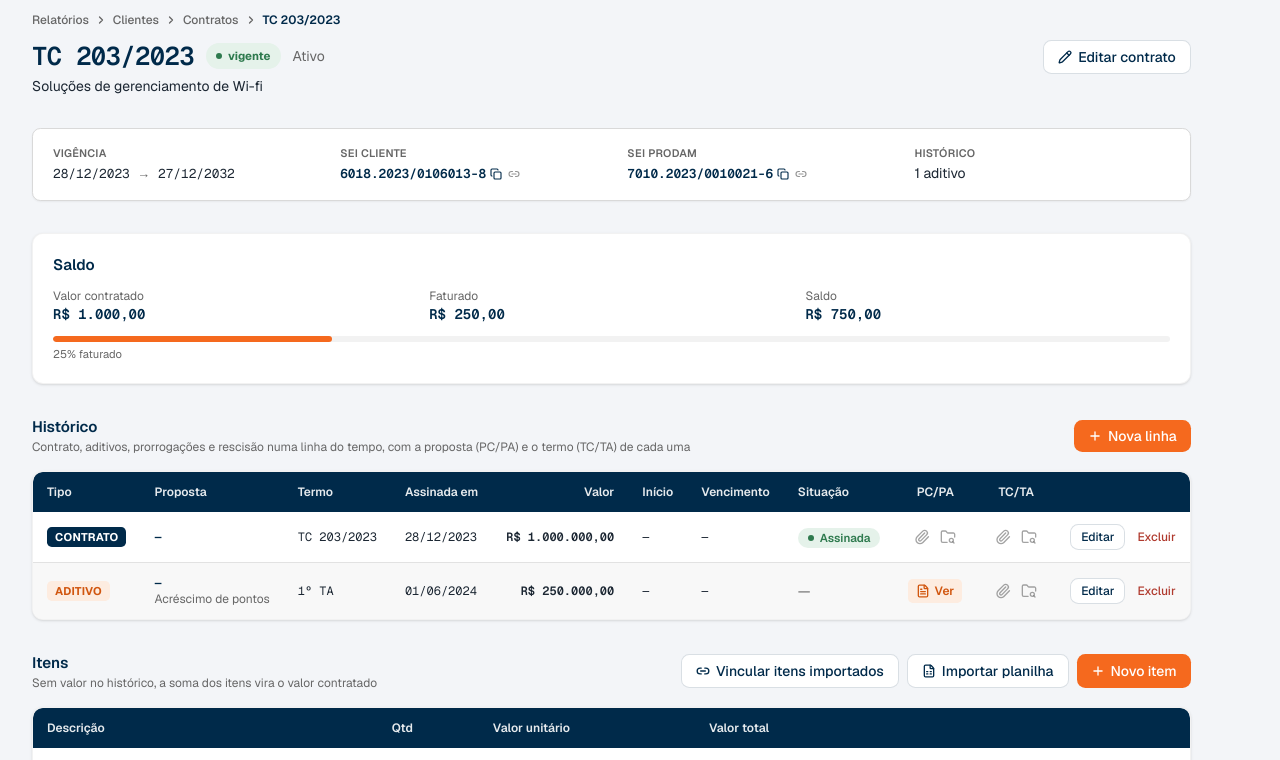
Scenario: ContratoDetalhePage › cadastra um item
Step 1. Click the button "Novo item" → click(1134, 671), box [1076, 654, 1191, 688]
(page scrolled)
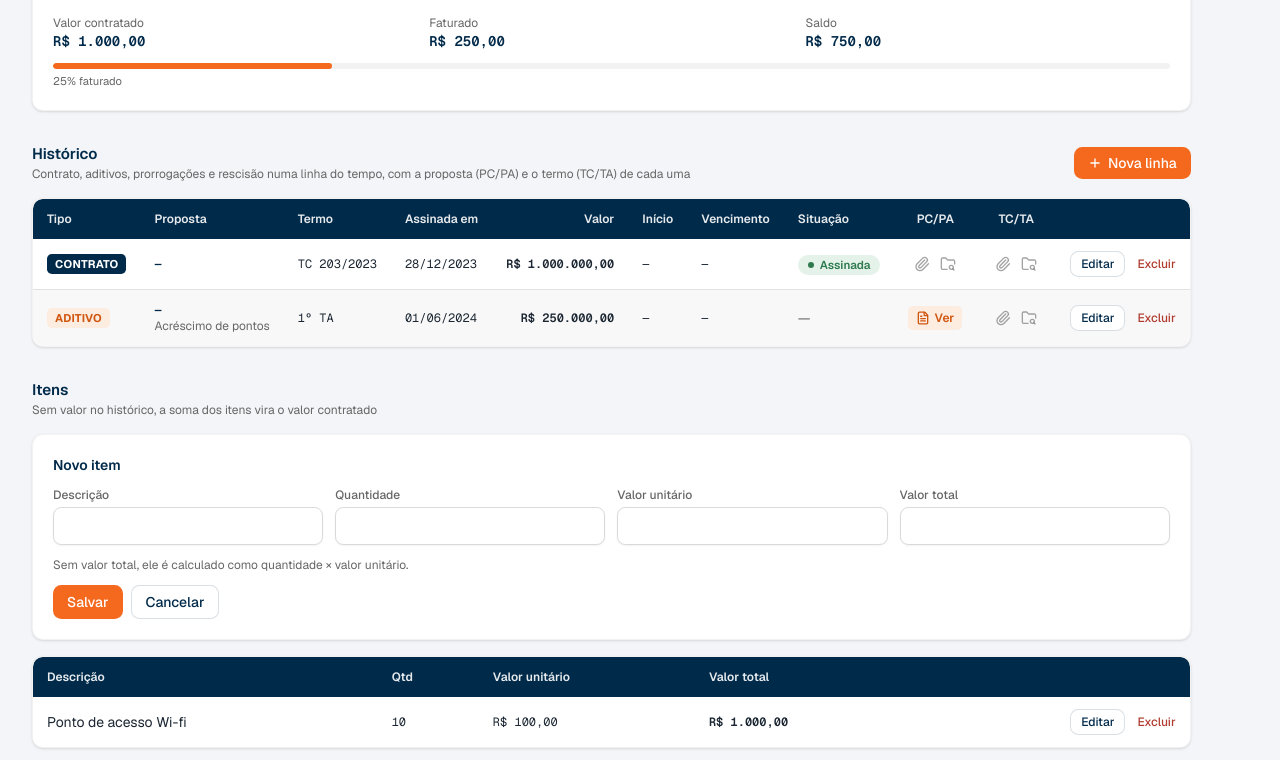
Step 2. Type "Switch" into the field labelled "Descrição" → (188, 526), box [53, 507, 323, 545]
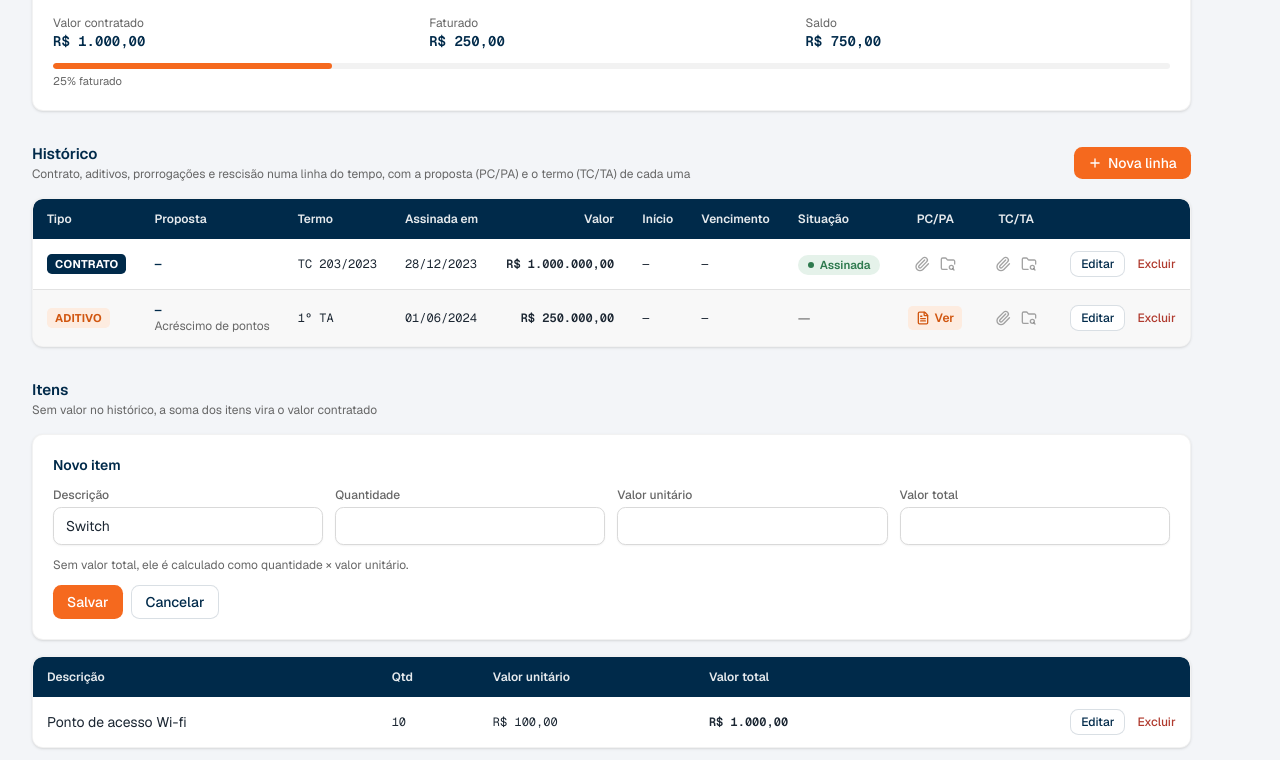
Step 3. Type "300" into the field labelled "Valor total" → (1035, 526), box [900, 507, 1170, 545]
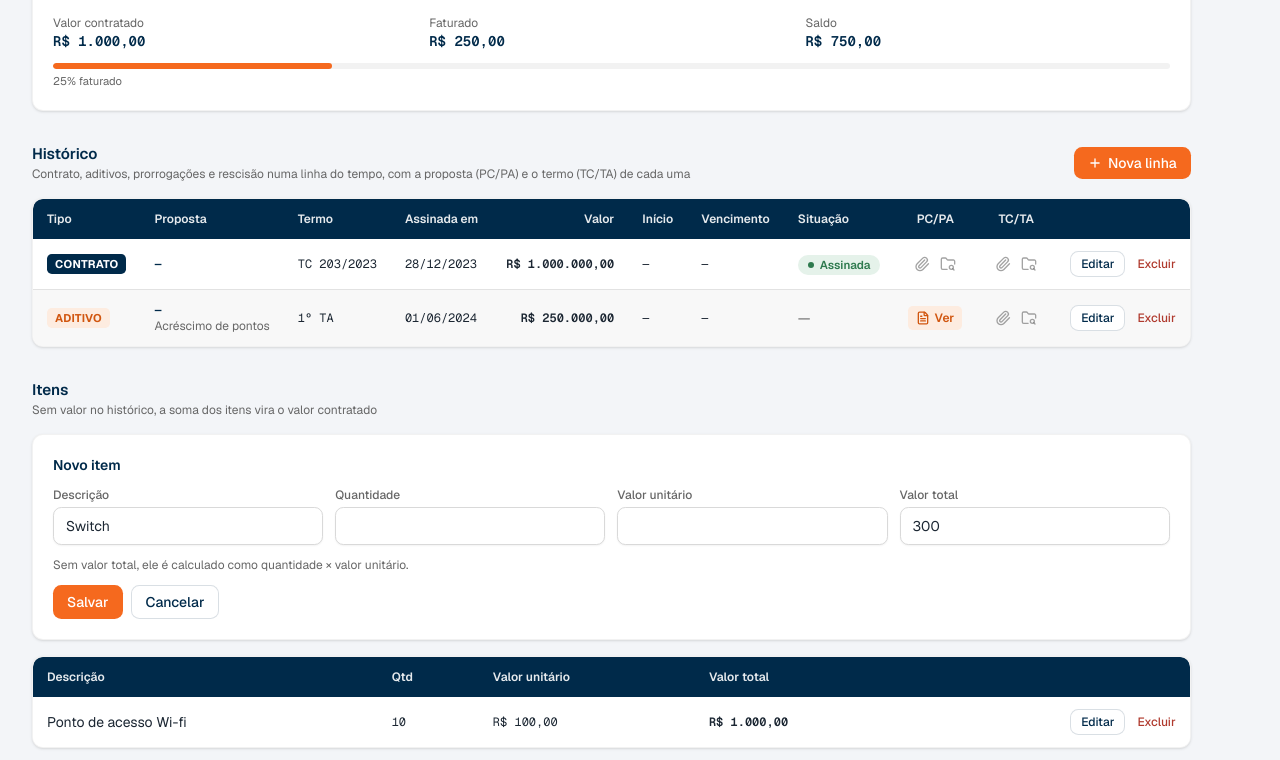
Step 4. Click the button "Salvar" → click(88, 602), box [53, 585, 122, 619]
(page scrolled)
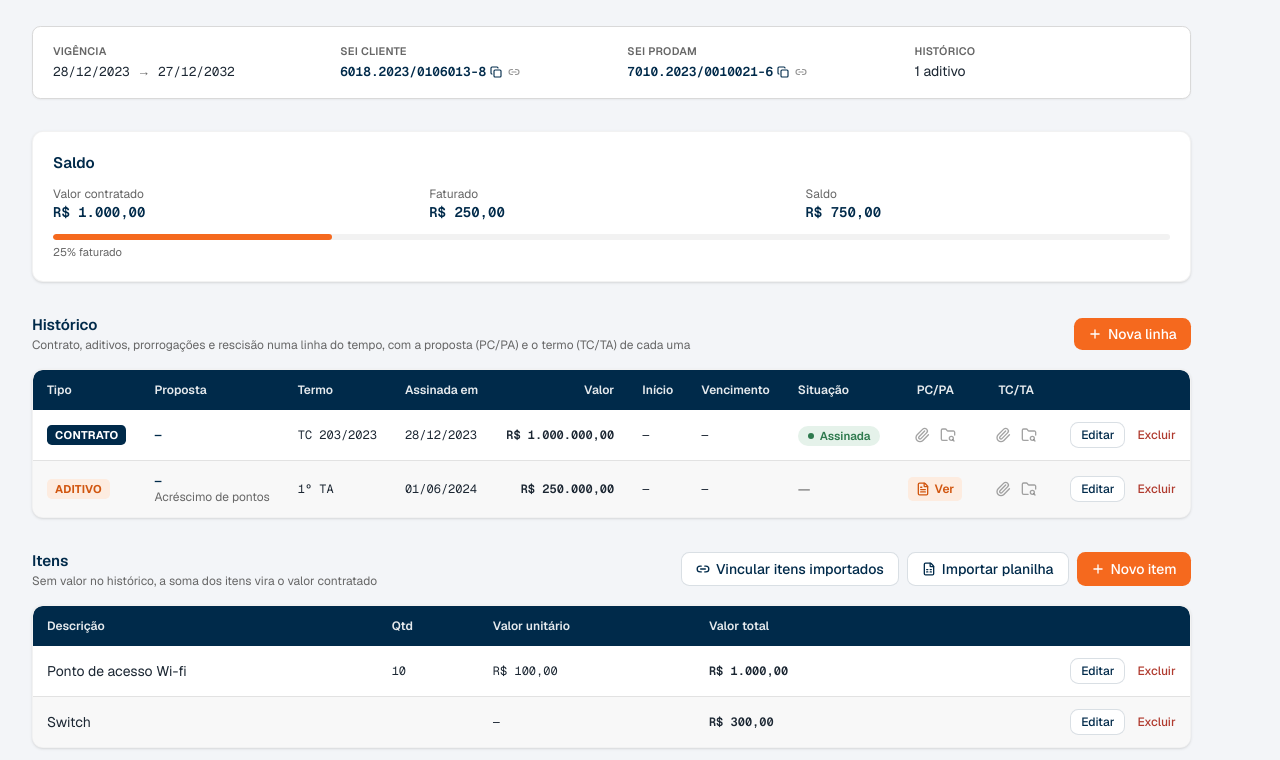
Expected: the text "Switch" is shown, [33, 696, 378, 747]
